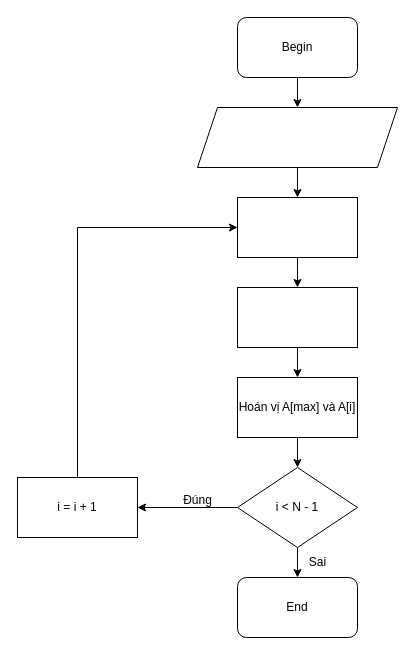
This 415x655 diagram has some shape labels left out. Each missing label, with the centre of its shape:
i = 1: (297,227)
Input: Mảng A[1...N], N phần tử: (297,137)
Tìm phần tử lớn nhất A[max] trong mảng A: (297,317)
